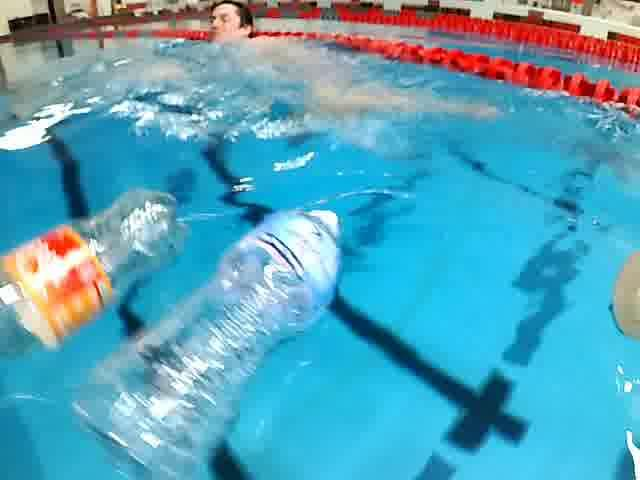Bottle: (68, 205, 353, 479), (0, 182, 204, 362)
